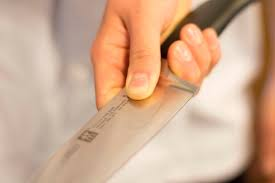knife: (28, 2, 257, 183)
